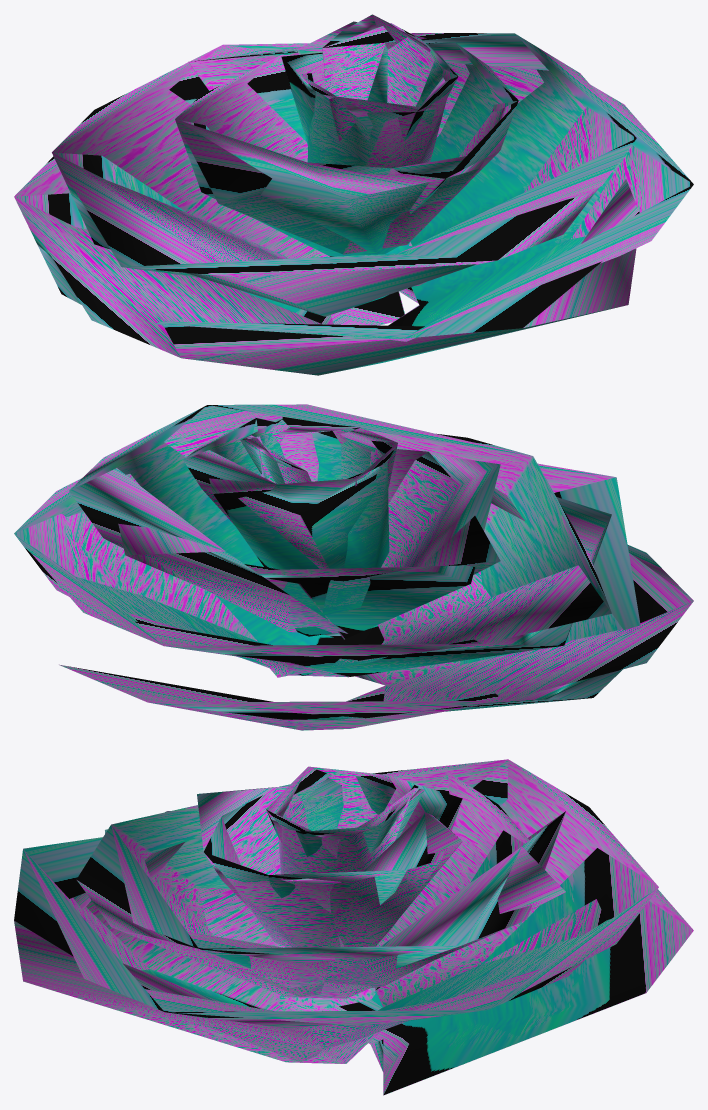
The picture shows the model from 3 angles, top to bottom: view 1: azimuth 30°, elevation 25°; view 2: azimuth 150°, elevation 25°; view 3: azimuth 270°, elevation 25°; orthographic projection.
Visible parts, largest first — view 1: Cube.001; view 2: Cube.001; view 3: Cube.001.
Part boxes in pixels (<box>): Cube.001: <box>14,14,693,375</box>; Cube.001: <box>14,404,693,730</box>; Cube.001: <box>14,759,693,1095</box>.
Size of the model in its own units: 4.96 by 2.51 by 5.17.
Materials: 1 (1 with a texture image).
